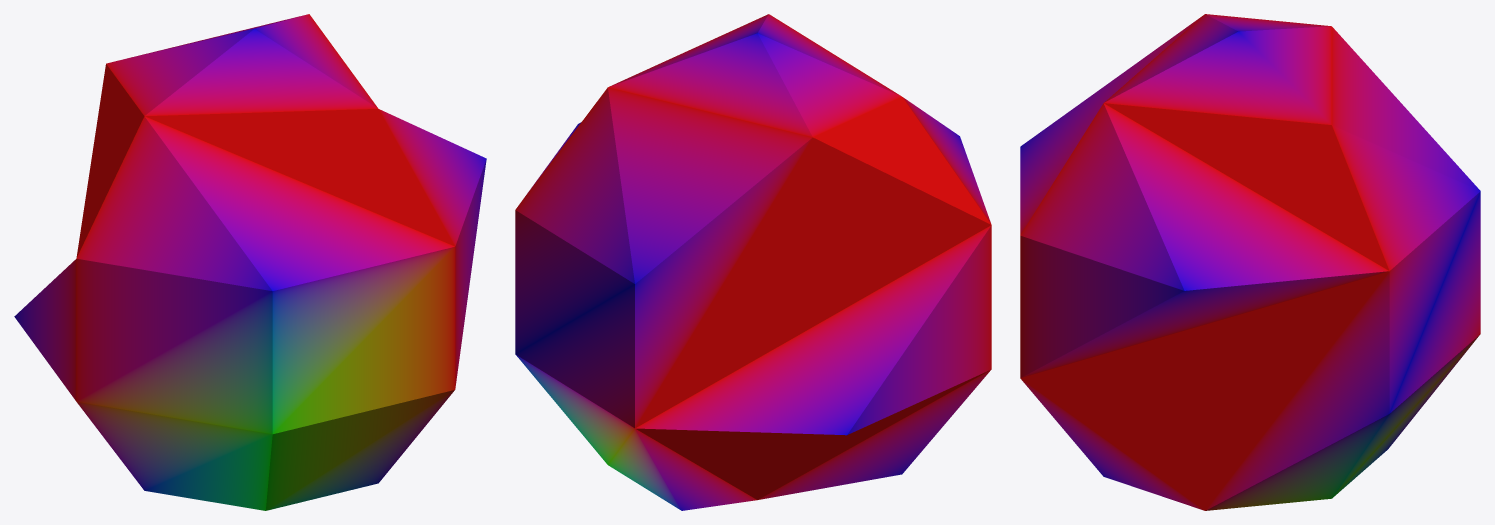
Rendered from after_retriangulation_type_colored_5.obj.
3 renders of one model, left to right at view 1: azimuth 30°, elevation 25°; view 2: azimuth 150°, elevation 25°; view 3: azimuth 270°, elevation 25°, orthographic.
Size of the model in its own units: 1.85 by 2 by 1.81.
